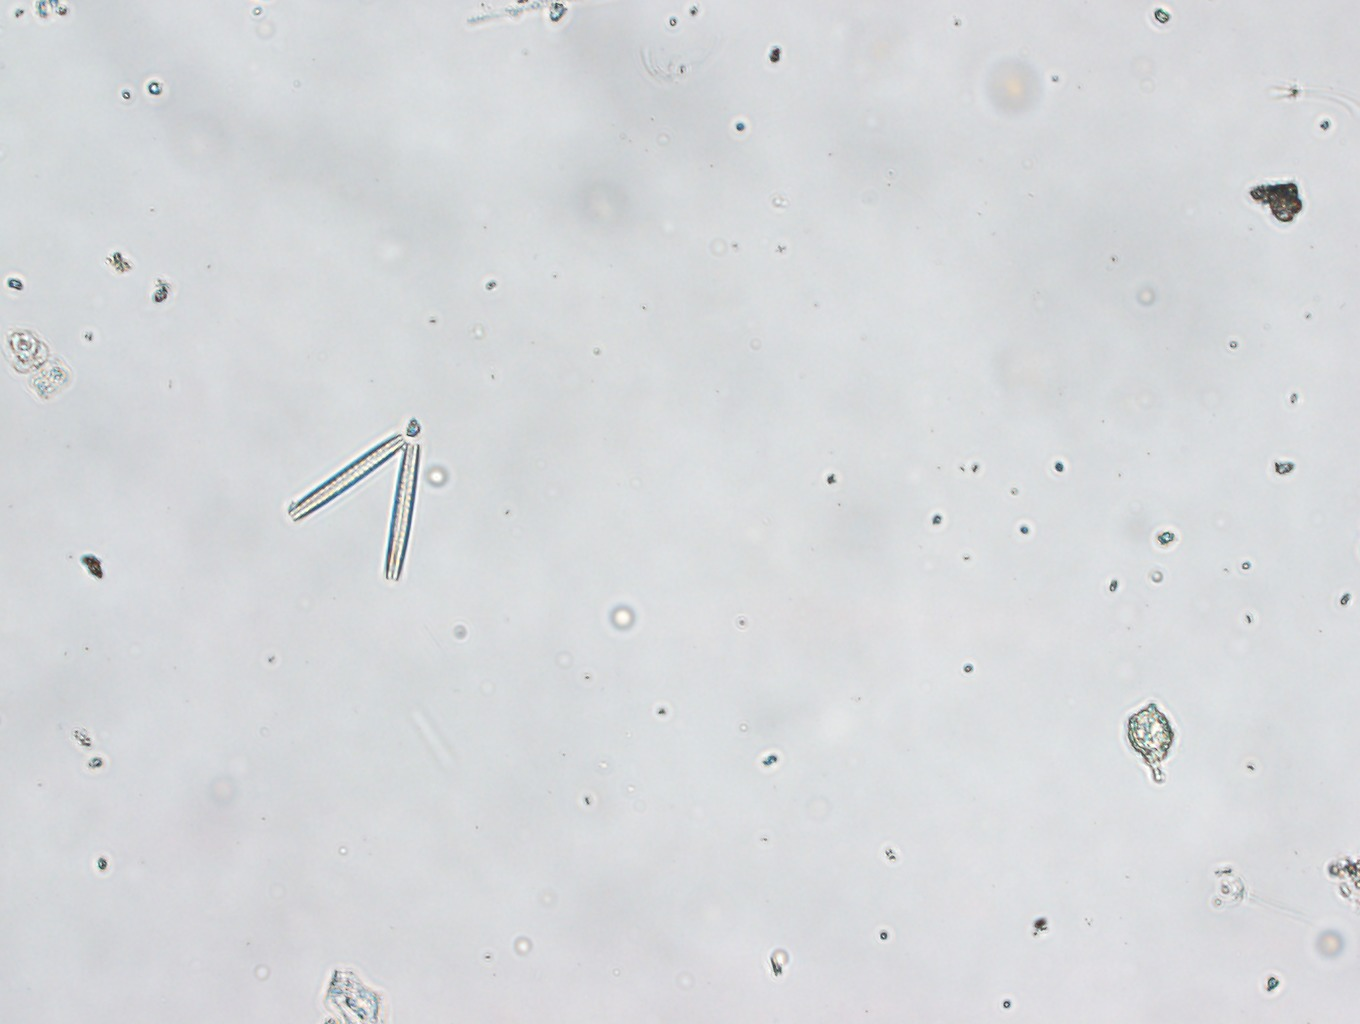thalassionema nitzschioides: (285, 422, 436, 588)
